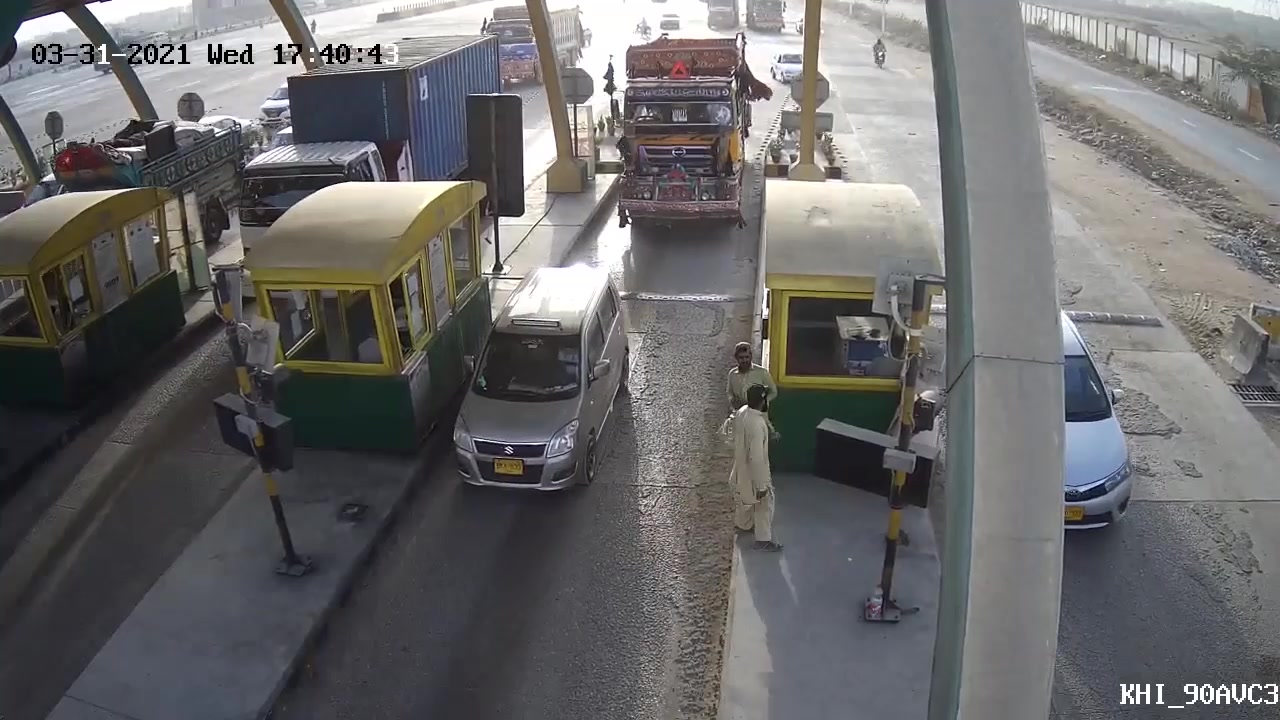F1: (435, 260, 626, 511)
F5: (604, 36, 753, 231)
